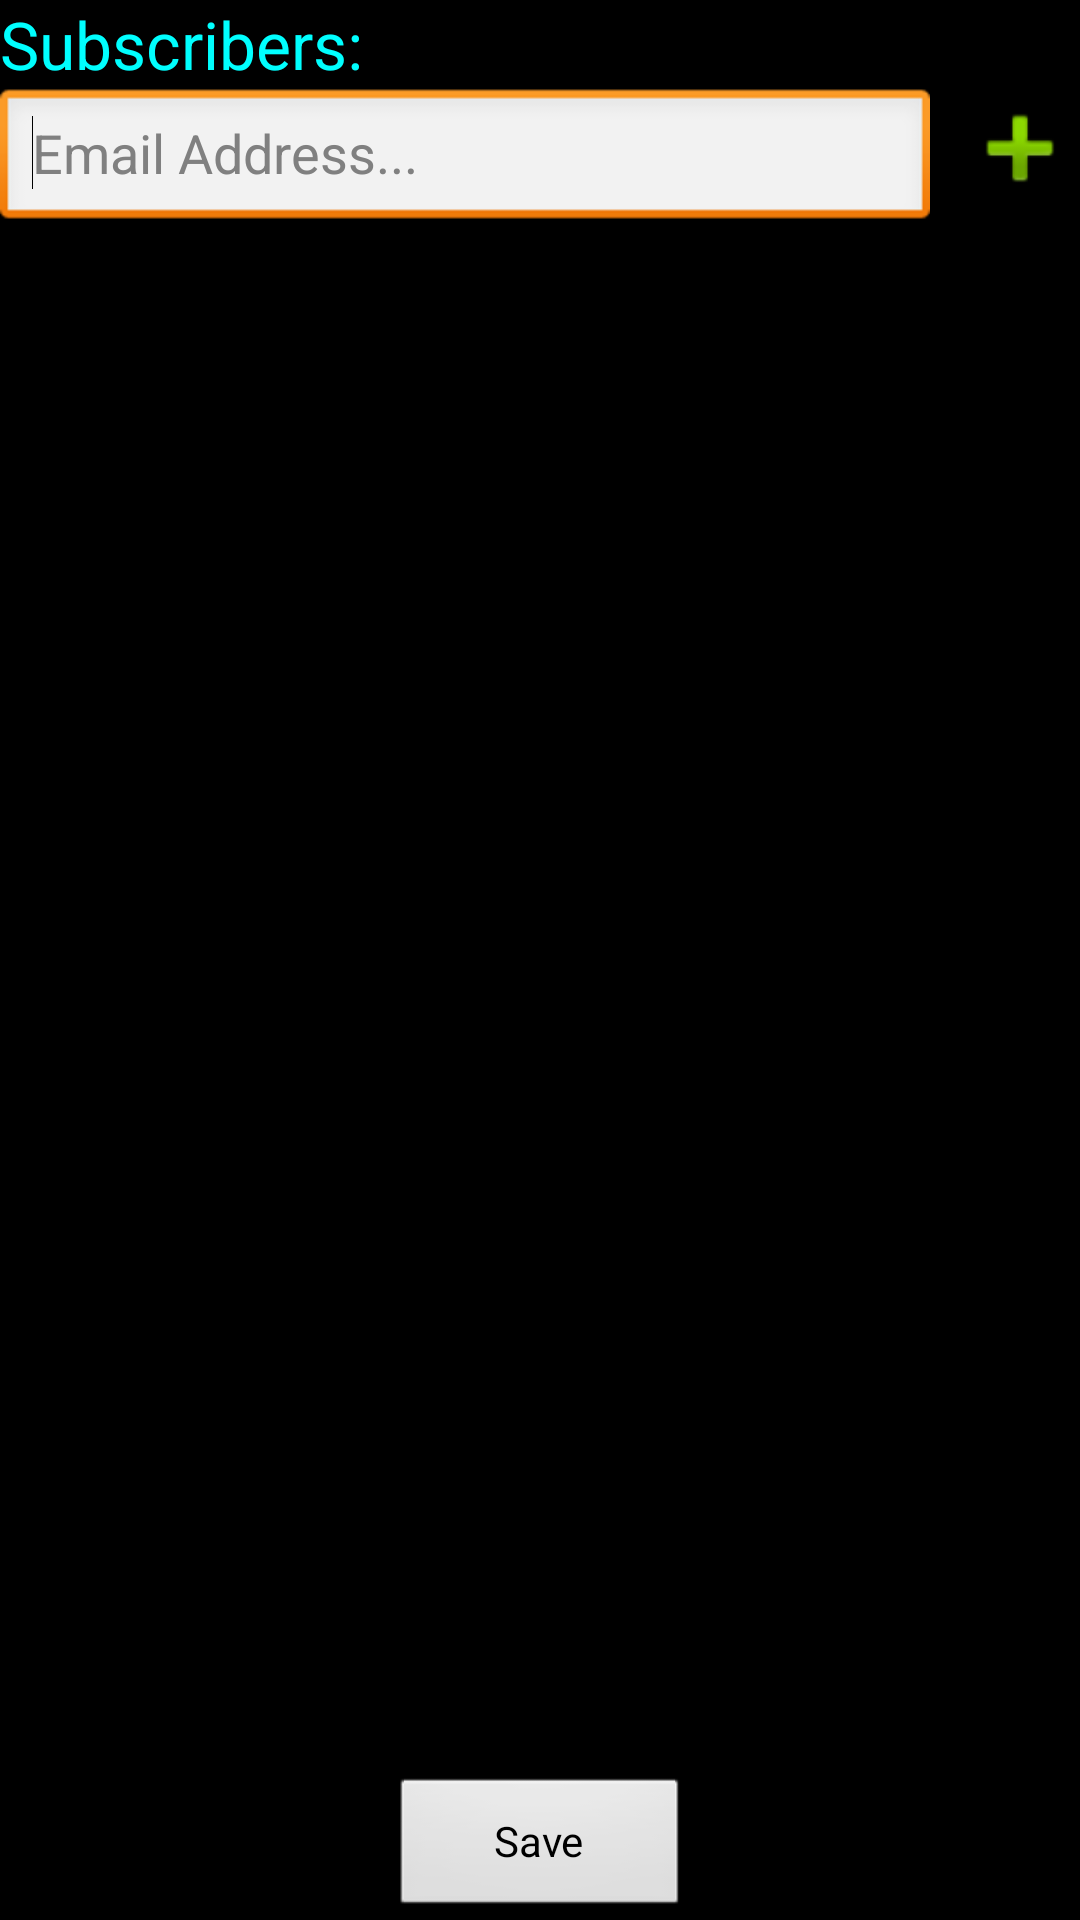

Where icons sit on this 1080 × 1920 app screen, as (x1, y1, x2, y2):
add: (986, 114, 1054, 182)
